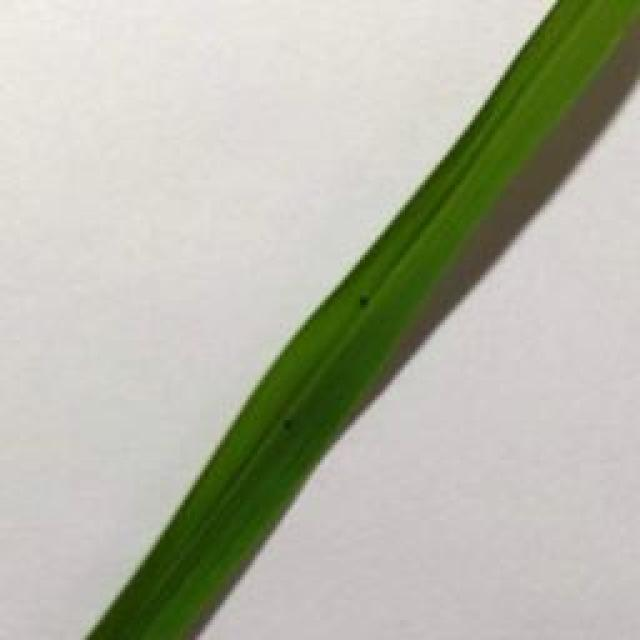Brown_Spot: (269, 407, 312, 440), (350, 288, 381, 322)
